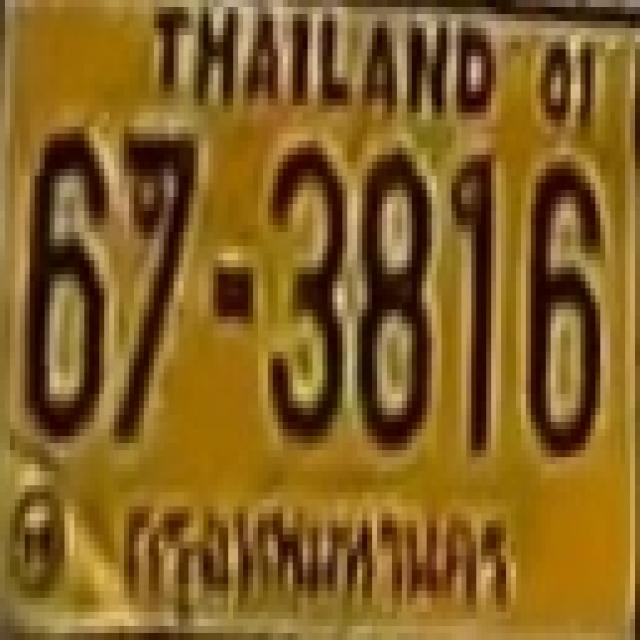1: (449, 148, 494, 422), (449, 148, 494, 401)
3: (263, 141, 342, 436)
6: (20, 127, 104, 429), (523, 155, 598, 450)
7: (114, 127, 194, 436)
8: (352, 148, 427, 443)
BKK: (105, 474, 527, 626)
